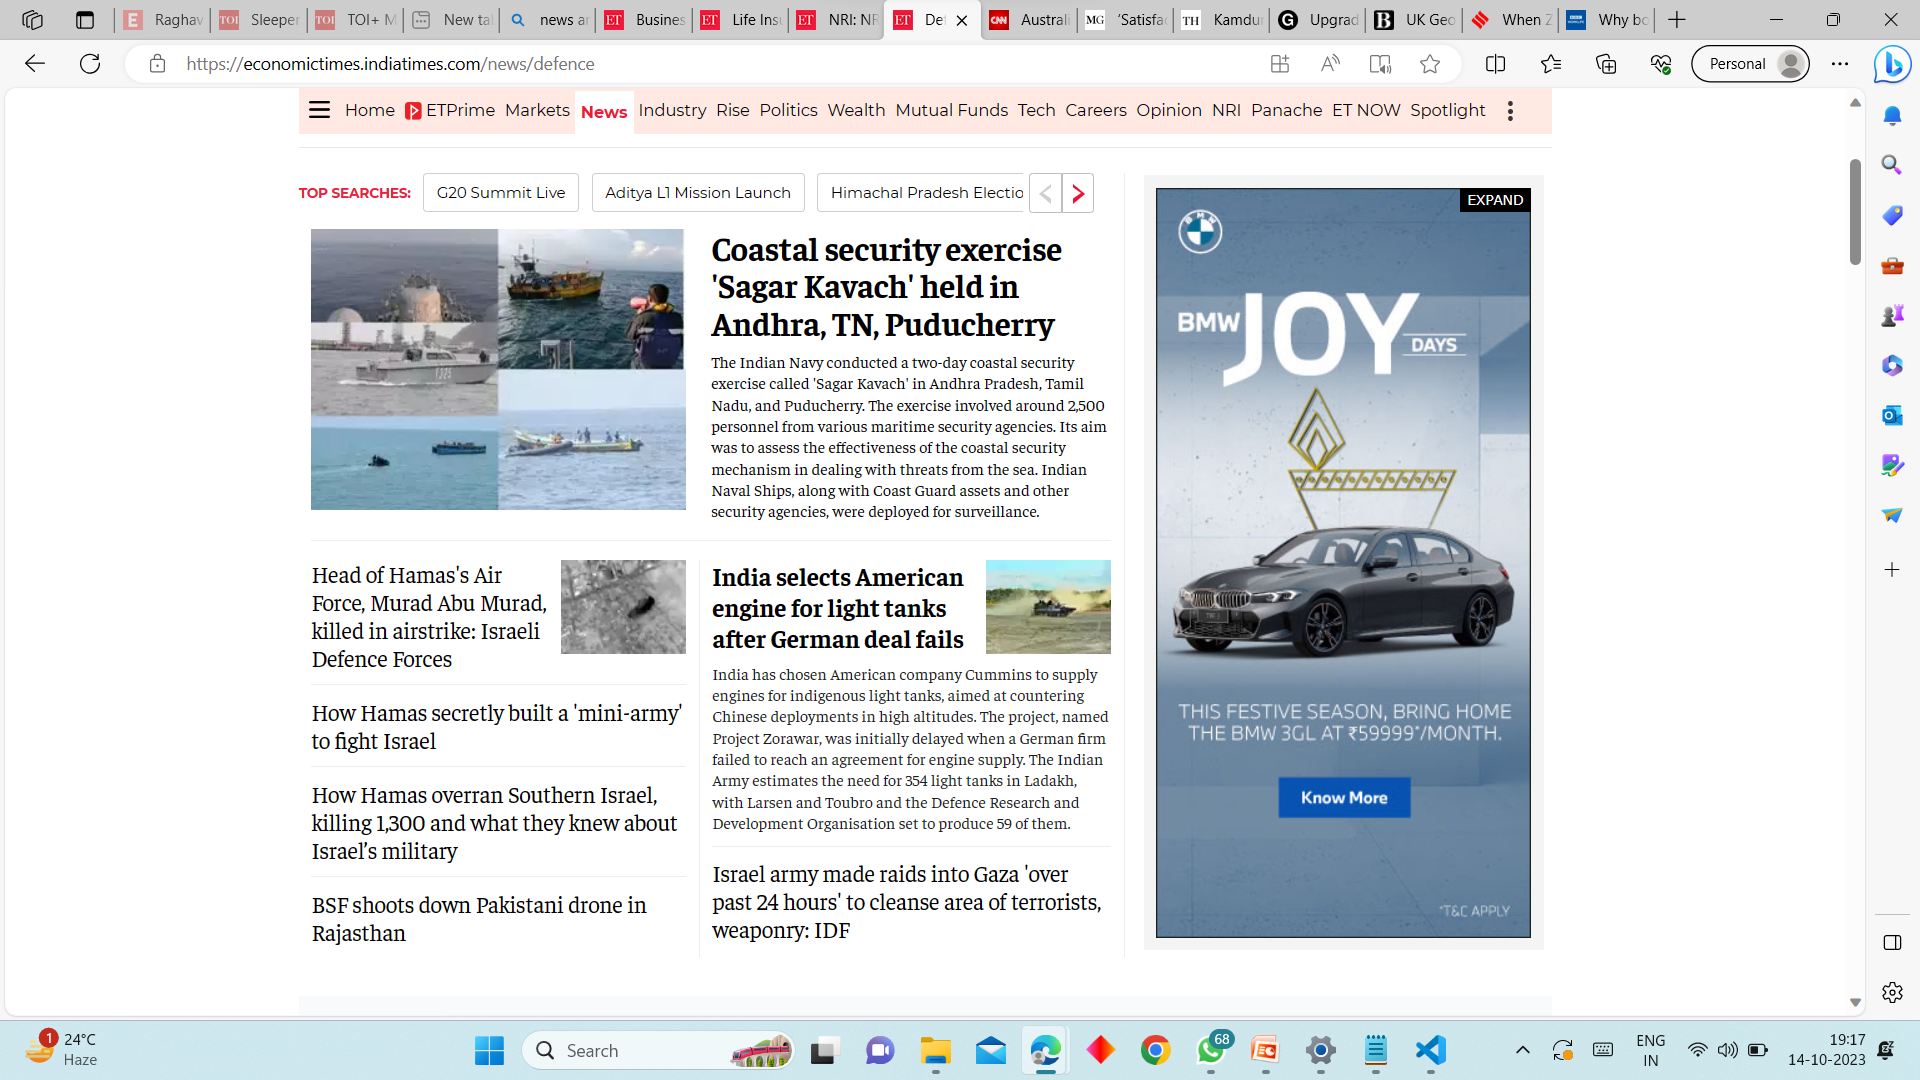Image: (1143, 172, 1538, 941), (302, 226, 693, 519), (552, 555, 693, 673), (821, 168, 1024, 208), (1049, 174, 1089, 208)
Paragraph: (702, 360, 1114, 530), (707, 664, 1114, 836), (695, 226, 1100, 351), (709, 861, 1116, 950), (293, 778, 678, 861), (304, 883, 671, 968), (309, 557, 548, 678), (293, 695, 695, 756), (704, 563, 964, 655), (286, 154, 407, 212), (597, 177, 798, 210), (423, 168, 577, 206)
